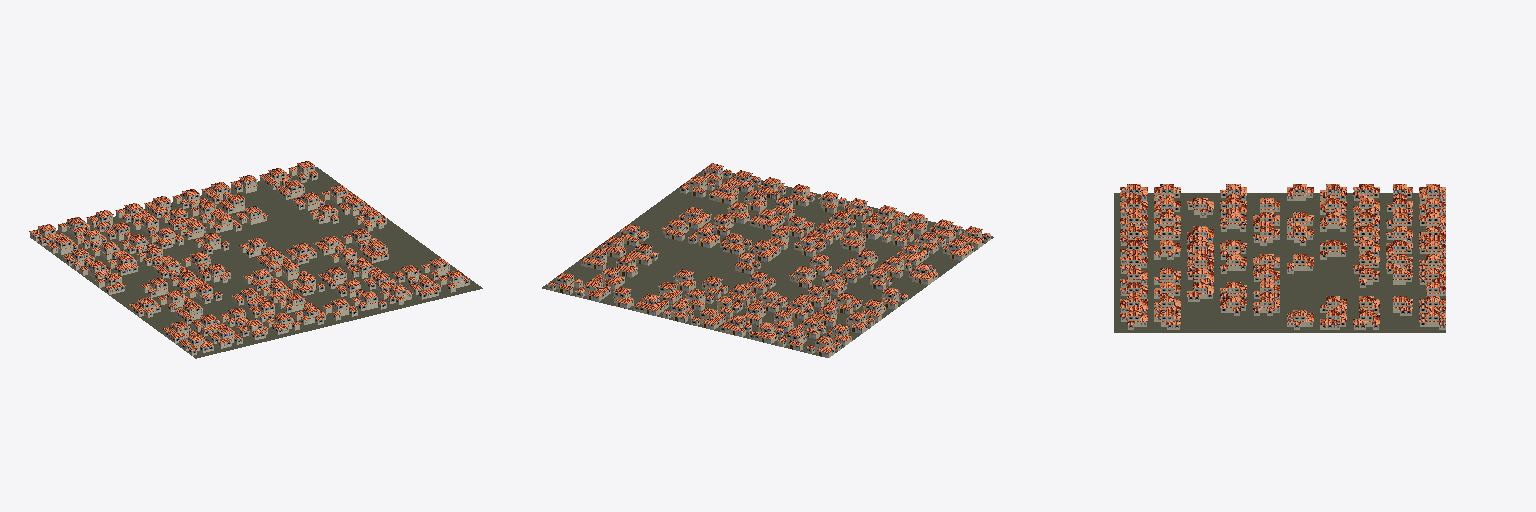
3 renders of one model, left to right at view 1: azimuth 30°, elevation 25°; view 2: azimuth 150°, elevation 25°; view 3: azimuth 270°, elevation 25°, orthographic.
Parts seen in each view (by area): view 1: Building; view 2: Building; view 3: Building.
Boxes of the visible parts, x1=… form: Building: x1=29, y1=161, x2=482, y2=358; Building: x1=542, y1=163, x2=993, y2=357; Building: x1=1114, y1=184, x2=1445, y2=332.
Bounding box in the file's own units: 130 × 5.91 × 130.
2 materials, 2 textured.